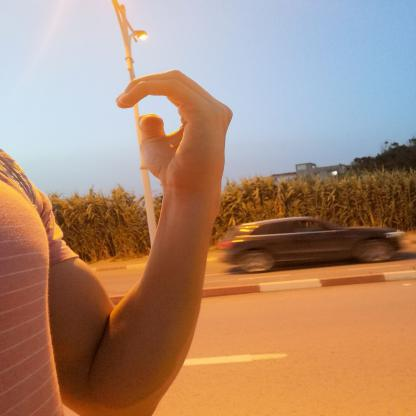JEEM: (104, 59, 252, 198)
